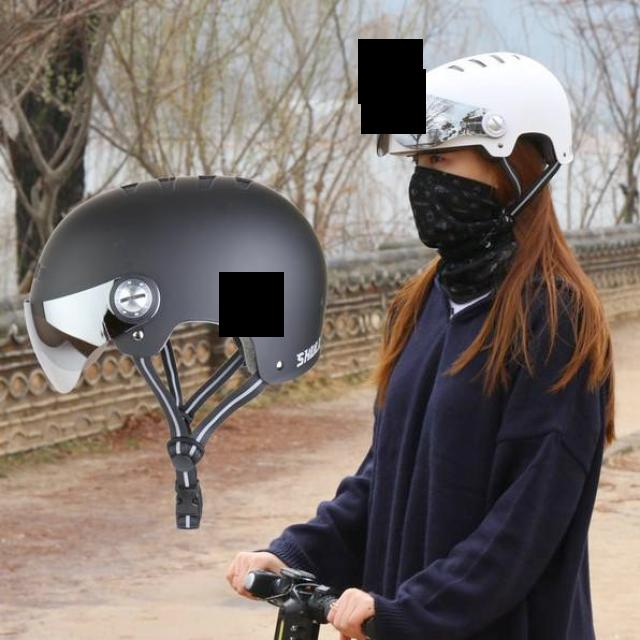Helmet: (25, 172, 327, 382), (376, 51, 577, 253)
